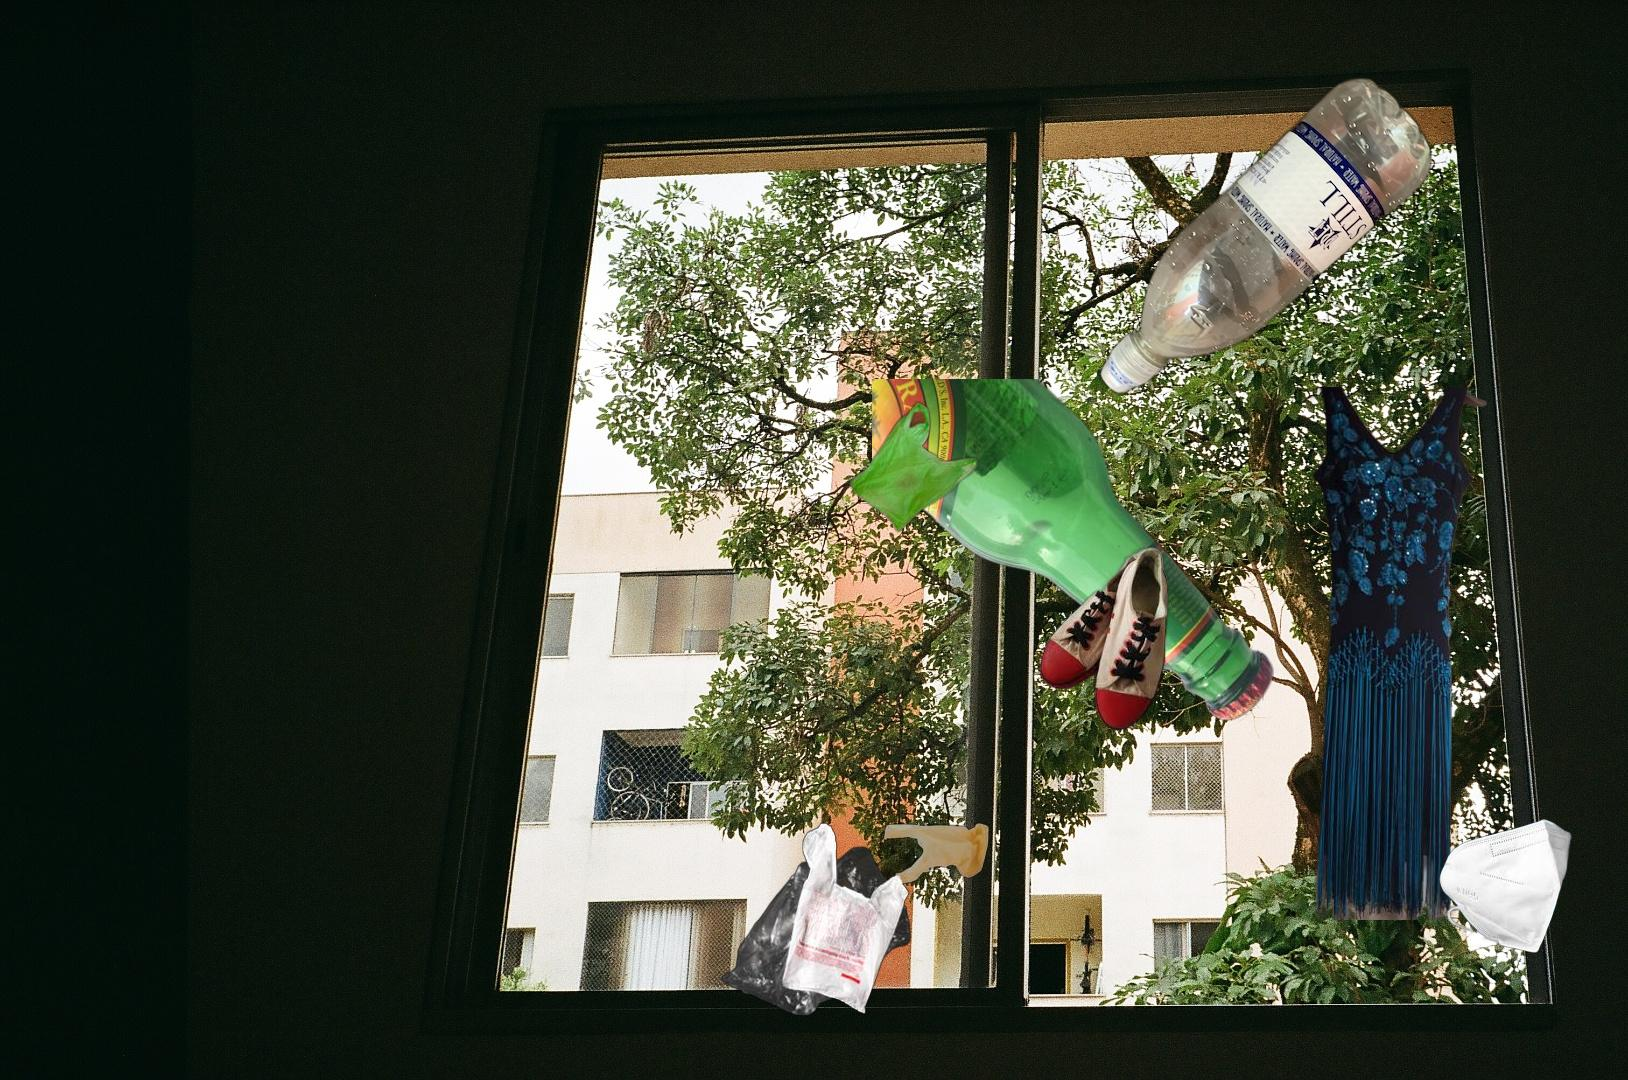clothes: (1288, 387, 1491, 920)
glass: (872, 378, 1277, 724)
plastic-bag: (719, 820, 991, 1019), (845, 400, 1056, 614)
plastic-bottles: (1095, 72, 1435, 399)
shoes: (1038, 544, 1172, 733)
trash: (1429, 783, 1574, 956)
